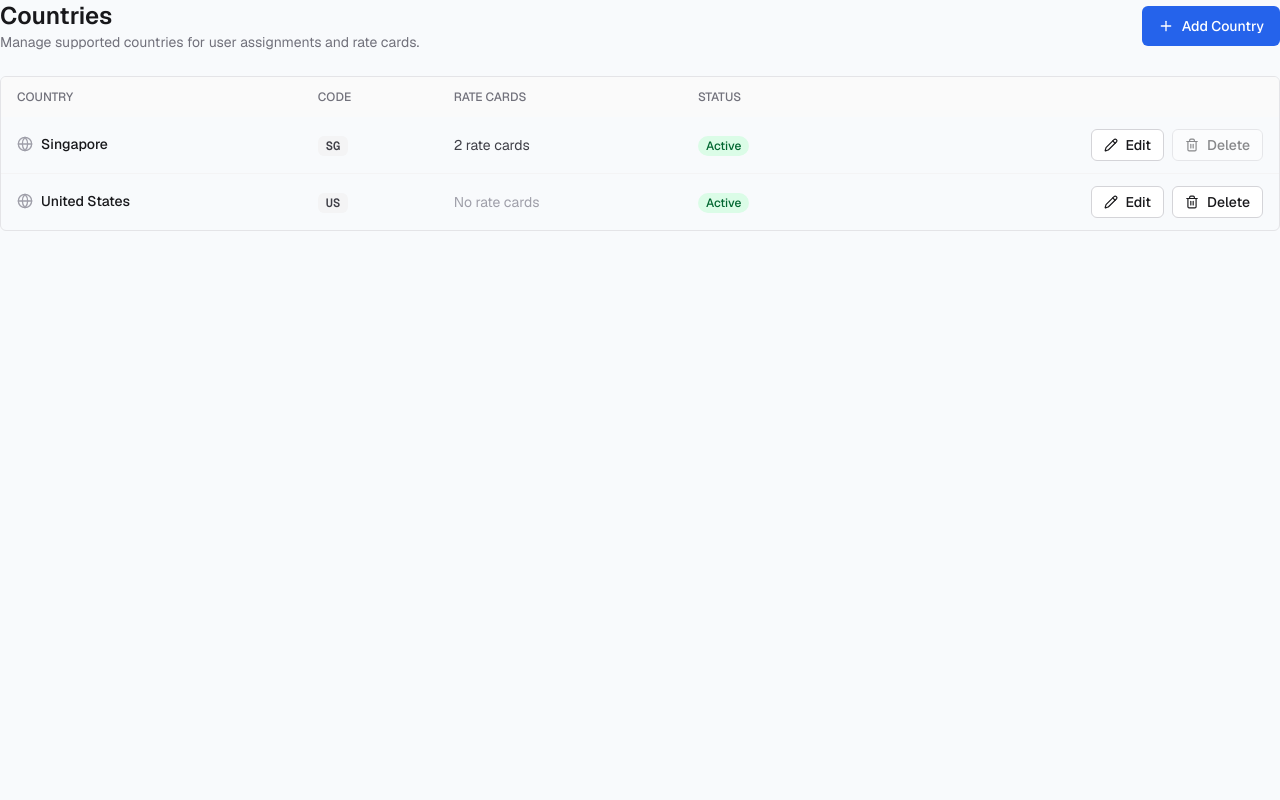
Test: CountriesTable › opens the Add Country modal when the header button is clicked
expect the text "Singapore" is shown: met, box [17,134,108,154]
Click the button "Add Country" at coordinates (1211, 26), box [1142,6,1279,46]
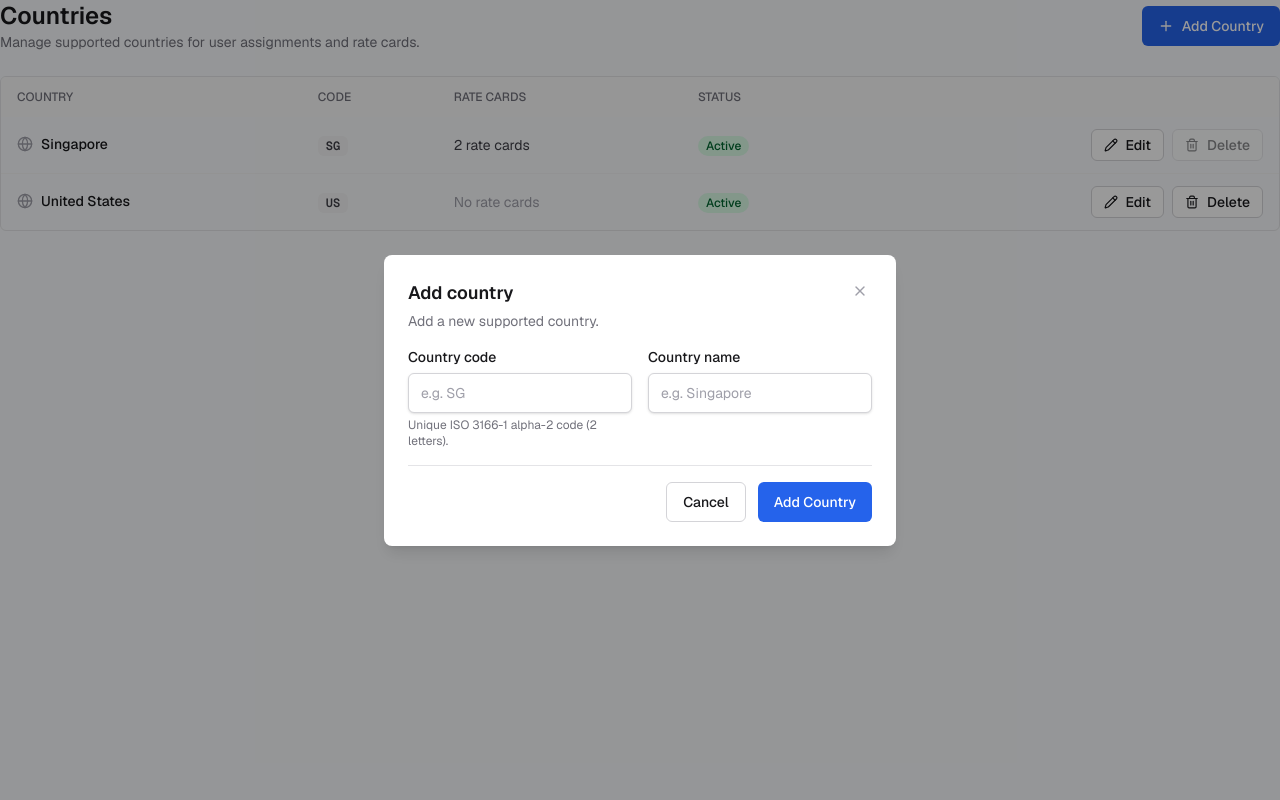
expect the heading "Add country" is shown: met, box [408,280,514,304]
